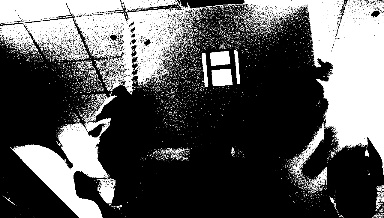H: (199, 50, 238, 85)
